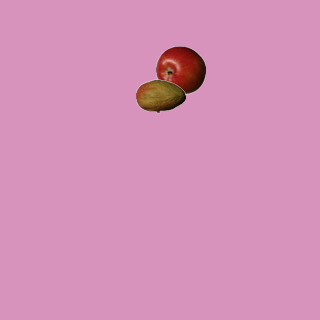Apple Braeburn: (155, 45, 205, 95)
Papaya: (135, 71, 185, 121)
